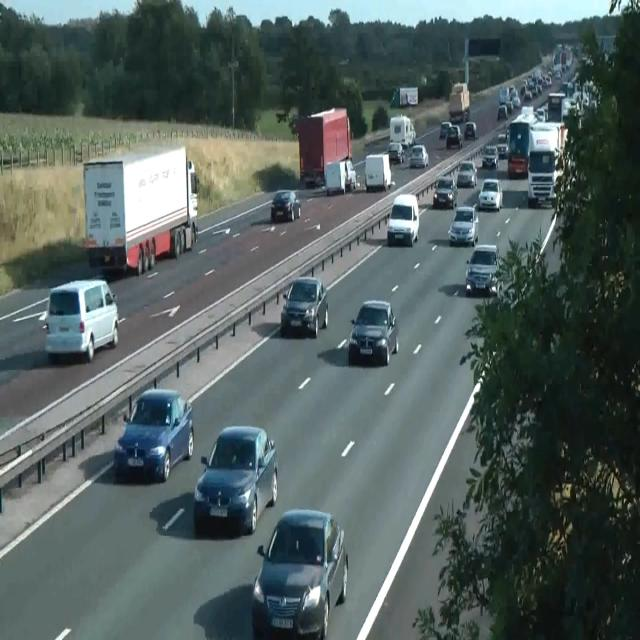bus: (251, 508, 348, 639), (193, 425, 278, 534), (113, 388, 193, 482), (348, 299, 398, 365), (280, 276, 328, 338), (447, 205, 479, 247), (270, 190, 301, 222), (432, 177, 458, 209), (478, 178, 502, 212), (457, 160, 477, 188), (409, 144, 428, 168), (481, 145, 499, 169), (387, 142, 405, 164), (534, 106, 548, 122), (464, 121, 476, 139), (439, 121, 451, 139), (496, 104, 508, 120)
jeep: (43, 277, 119, 363), (527, 146, 557, 207), (465, 244, 499, 296), (387, 193, 419, 246), (445, 124, 463, 150)
minibus: (82, 145, 200, 275), (296, 106, 352, 190), (324, 158, 356, 195), (364, 153, 392, 192), (390, 114, 416, 149), (448, 81, 470, 122), (390, 86, 418, 108)
